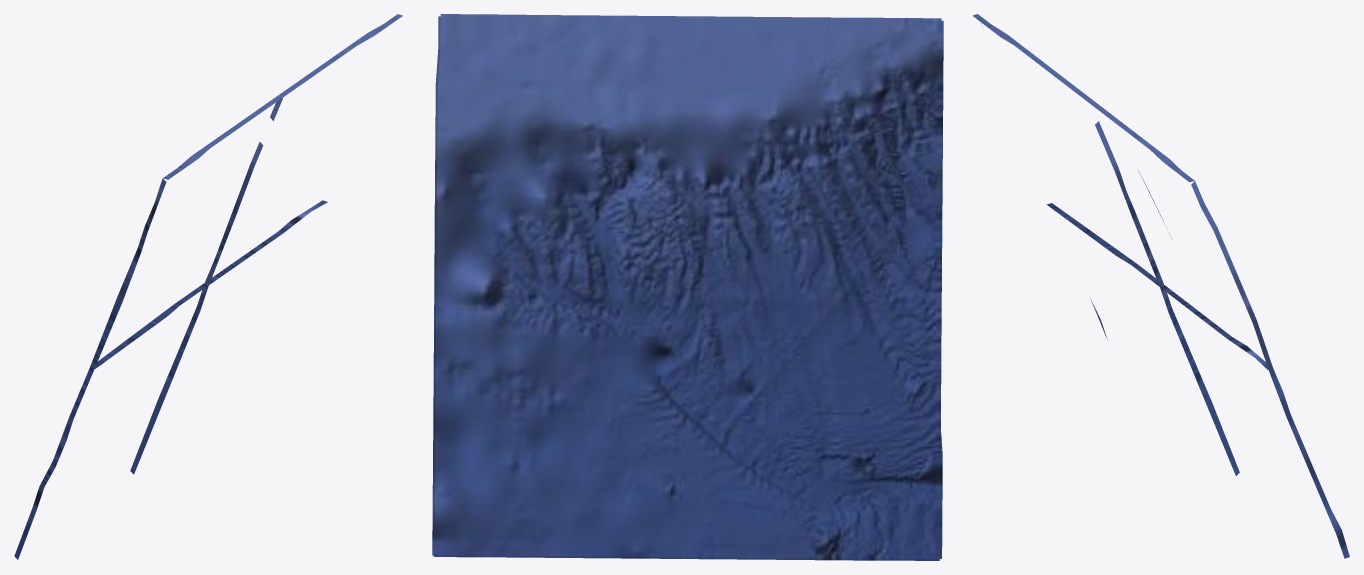
The picture shows the model from 3 angles, left to right: view 1: azimuth 30°, elevation 25°; view 2: azimuth 150°, elevation 25°; view 3: azimuth 270°, elevation 25°; orthographic projection. The views are drawn at different scales.
Bounding box in the file's own units: 155772 × 147989 × 121832.
Materials: 1 (1 with a texture image).
